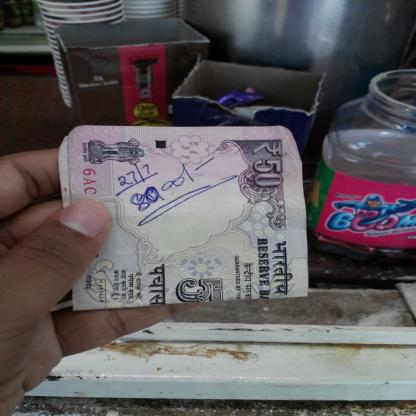Old50Front: (57, 125, 308, 311)
